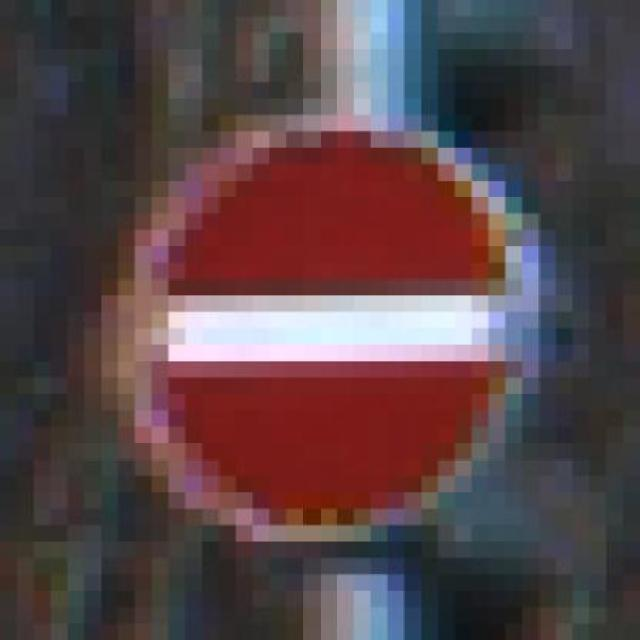B2: (129, 130, 537, 518)
